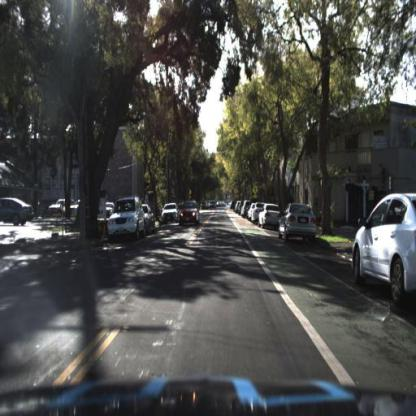car: (350, 186, 416, 298), (276, 200, 321, 244), (109, 195, 146, 244), (1, 196, 40, 236), (280, 203, 318, 244), (179, 200, 202, 234), (141, 203, 158, 237), (258, 204, 280, 230), (260, 203, 280, 230), (181, 199, 199, 226), (161, 202, 179, 223), (104, 198, 118, 218)
